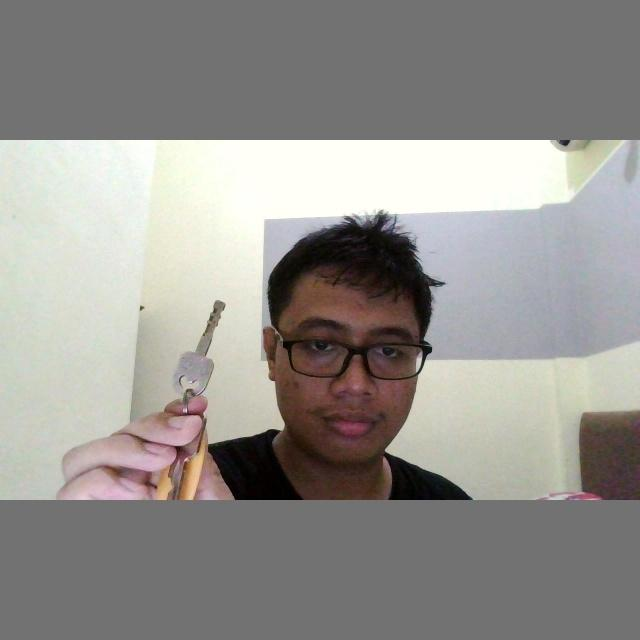Keys: (168, 292, 230, 400)
